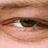eye: (20, 20, 35, 27)
